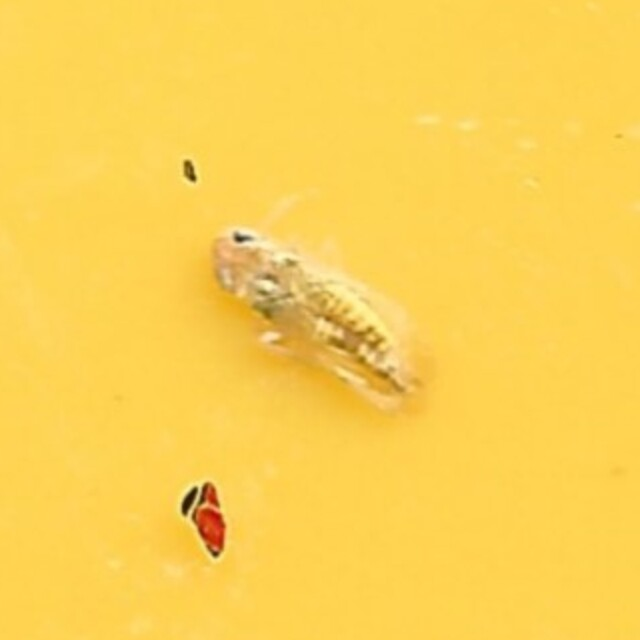Hemiptera: (200, 215, 440, 425)
